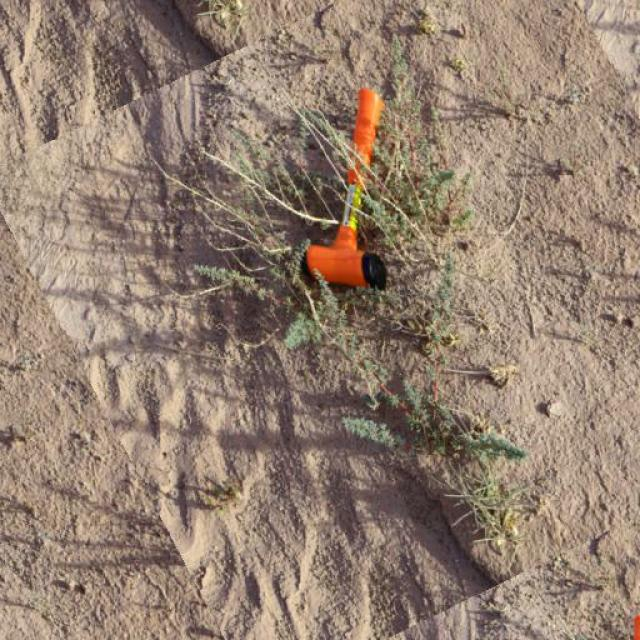mallet: (304, 85, 390, 290)
